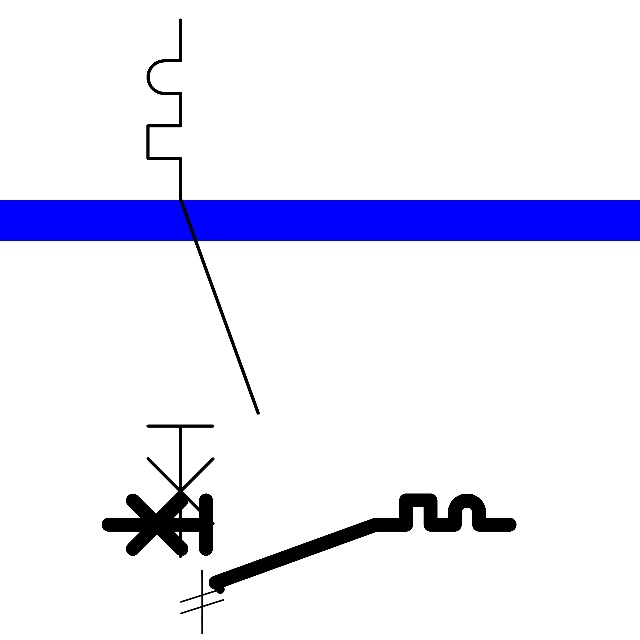interruptor_termomagnetico: (134, 6, 272, 570), (98, 490, 520, 593)
